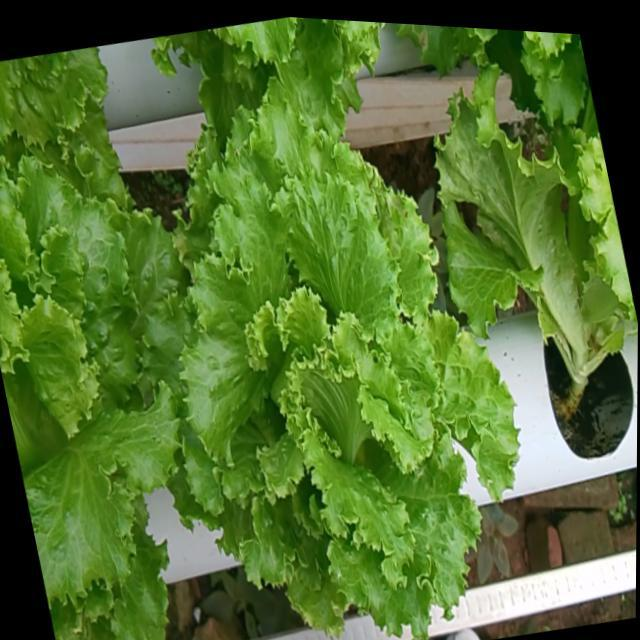Mature: (175, 97, 523, 635), (0, 157, 191, 613)
